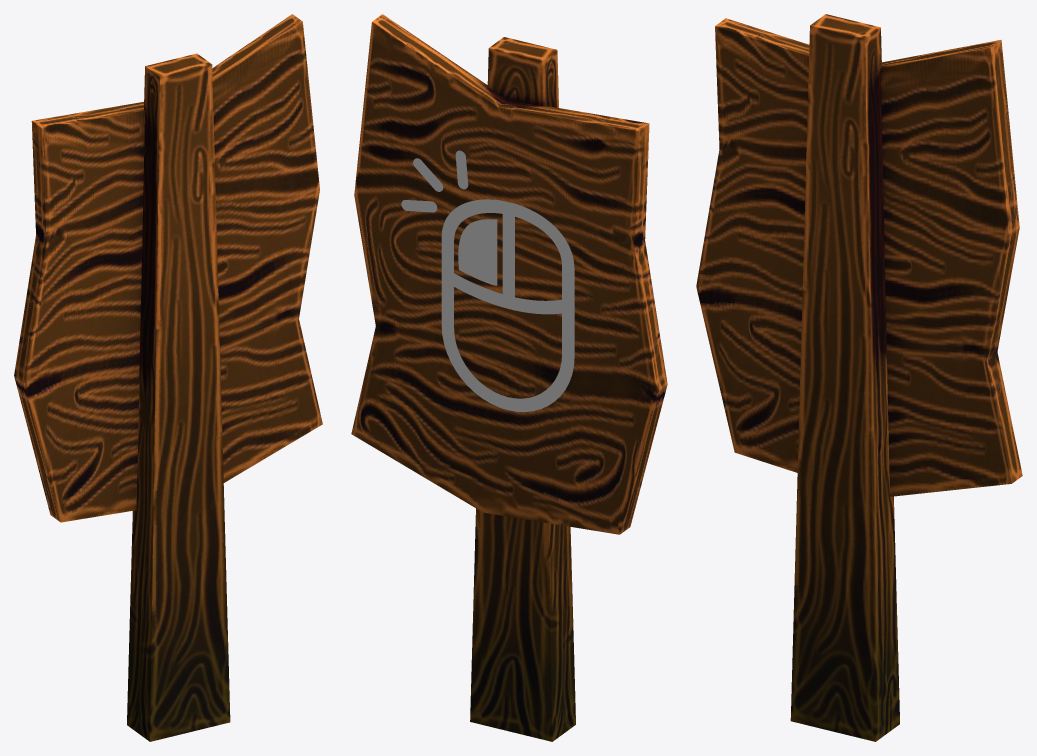
The model's file is signclick.fbx.
3 renders of one model, left to right at view 1: azimuth 30°, elevation 25°; view 2: azimuth 150°, elevation 25°; view 3: azimuth 330°, elevation 25°, orthographic. The views are drawn at different scales.
Parts seen in each view (by area): view 1: sign1__0; view 2: sign1__0, mouse-left-button-svgrepo-com.svg; view 3: sign1__0.
Boxes of the visible parts, bbox=[...] form: sign1__0: bbox=[14, 14, 322, 741]; sign1__0: bbox=[351, 14, 667, 741]; mouse-left-button-svgrepo-com.svg: bbox=[441, 199, 574, 411]; sign1__0: bbox=[696, 14, 1022, 741].
Size of the model in its own units: 81.42 by 173 by 13.66.
Materials: 1 (1 with a texture image).
